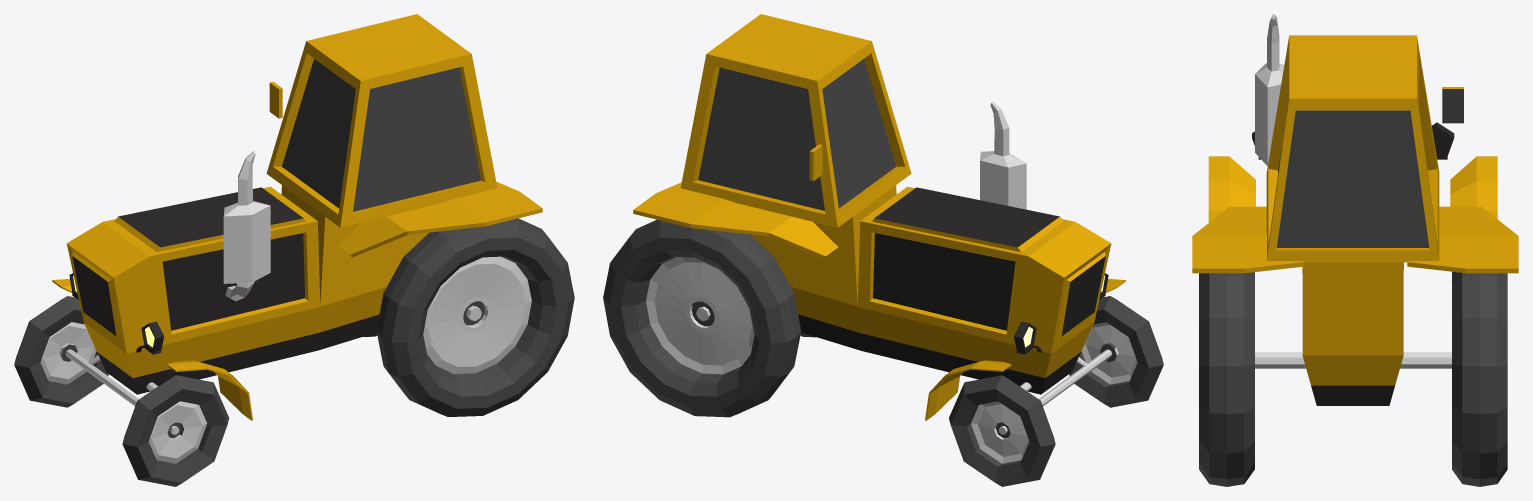
The model's file is tractor.glb.
3 renders of one model, left to right at view 1: azimuth 30°, elevation 25°; view 2: azimuth 150°, elevation 25°; view 3: azimuth 270°, elevation 25°, orthographic. The views are drawn at different scales.
Parts seen in each view (by area): view 1: Engine, cockpit, backwheels, frontwheels, RimBack, vapor, Plane, frontCylinder, front lights; view 2: Engine, cockpit, backwheels, frontwheels, RimBack, vapor, Plane, frontCylinder, front lights; view 3: cockpit, backwheels, Engine, RimBack, Plane, vapor, backCylinder, mirror, front lights.
Boxes of the visible parts, left/top/right/bottom form: Engine: left=66, top=185, right=428, bottom=394; cockpit: left=266, top=14, right=497, bottom=227; backwheels: left=363, top=218, right=574, bottom=416; frontwheels: left=14, top=296, right=229, bottom=486; RimBack: left=338, top=182, right=542, bottom=257; vapor: left=223, top=151, right=270, bottom=301; Plane: left=52, top=279, right=252, bottom=420; frontCylinder: left=65, top=349, right=179, bottom=434; front lights: left=69, top=273, right=164, bottom=354; Engine: left=751, top=185, right=1111, bottom=394; cockpit: left=680, top=14, right=911, bottom=227; backwheels: left=603, top=219, right=816, bottom=417; frontwheels: left=949, top=296, right=1163, bottom=486; RimBack: left=633, top=182, right=838, bottom=258; vapor: left=980, top=101, right=1026, bottom=209; Plane: left=925, top=279, right=1125, bottom=420; frontCylinder: left=998, top=349, right=1111, bottom=434; front lights: left=1014, top=273, right=1108, bottom=354; cockpit: left=1266, top=35, right=1439, bottom=262; backwheels: left=1199, top=271, right=1507, bottom=486; Engine: left=1302, top=262, right=1404, bottom=405; RimBack: left=1192, top=206, right=1518, bottom=273; Plane: left=1208, top=156, right=1497, bottom=222; vapor: left=1255, top=14, right=1284, bottom=166; backCylinder: left=1255, top=352, right=1451, bottom=368; mirror: left=1442, top=87, right=1463, bottom=123; front lights: left=1252, top=122, right=1454, bottom=159.
Bounding box in the file's own units: 2.38 × 1.71 × 1.29.
